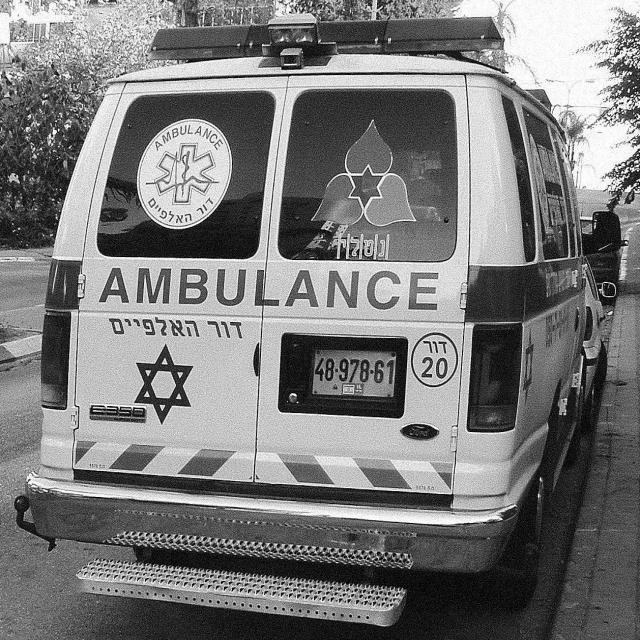Ambulance: (14, 14, 584, 629)
